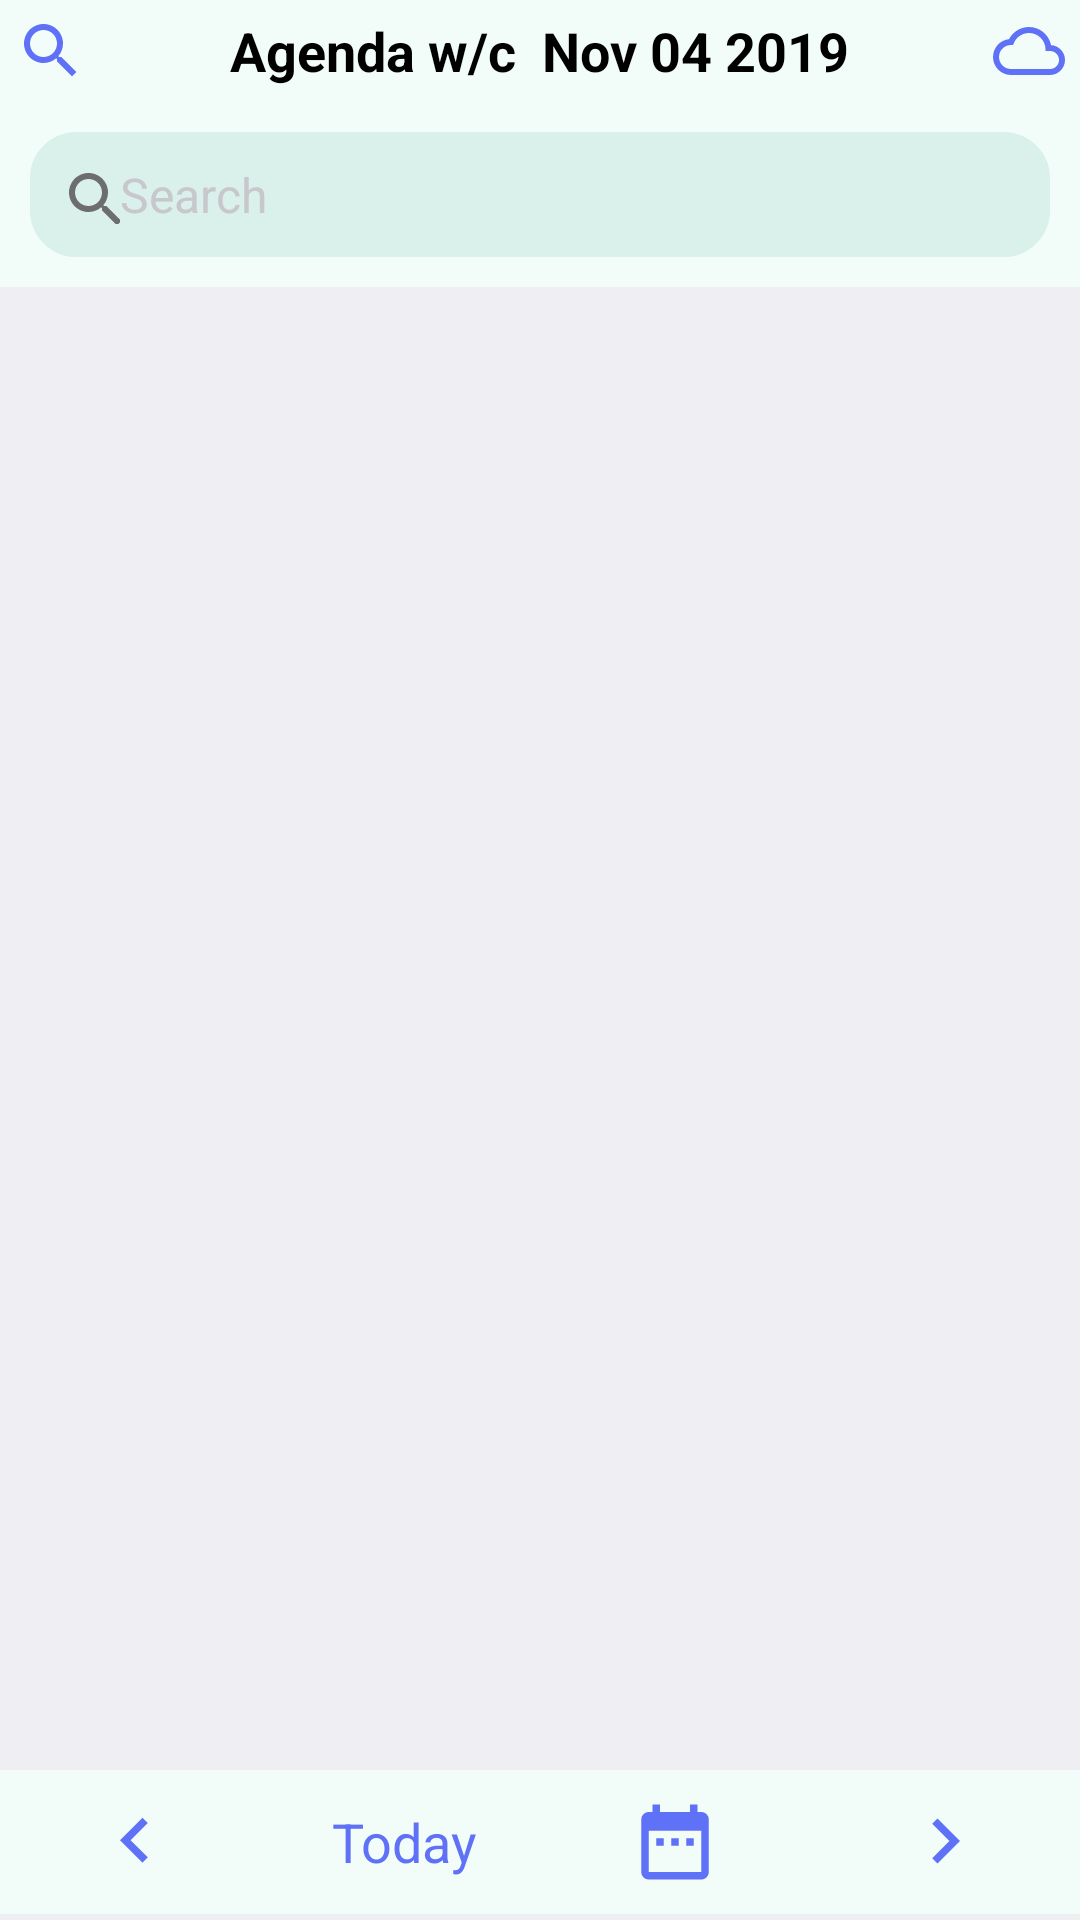

Named icons in this screenshot (1080w x 1920h) and their bounding boxes, [x1, y1, x2, y2]:
arrow left: [120, 1818, 148, 1863]
arrow right: [932, 1818, 960, 1864]
cloud: [993, 27, 1065, 75]
jump schedule: [641, 1804, 709, 1880]
